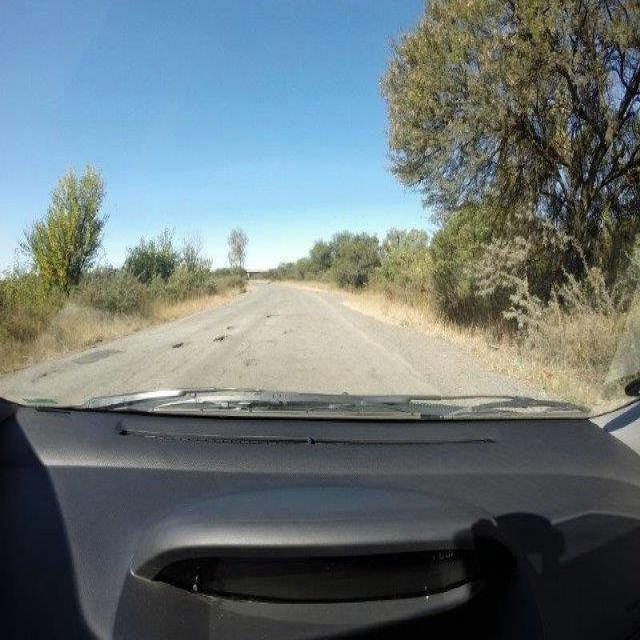lubang: (28, 366, 60, 386), (208, 332, 230, 346), (170, 338, 186, 352), (265, 308, 281, 322), (224, 322, 236, 332)
